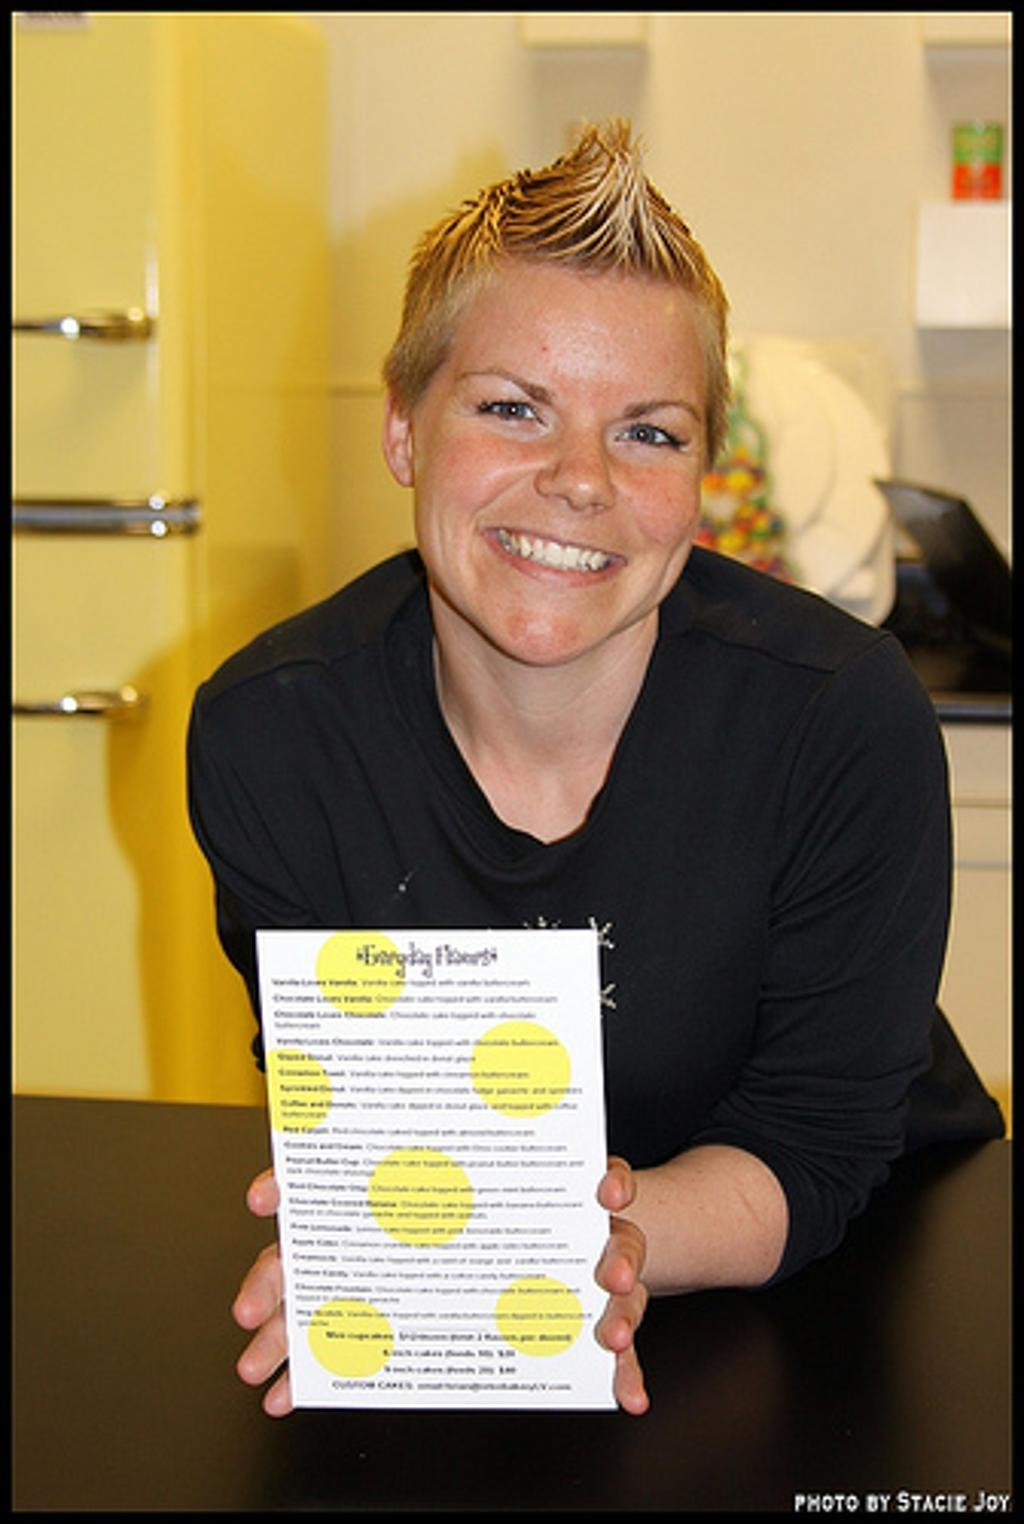face: (426, 268, 715, 658)
